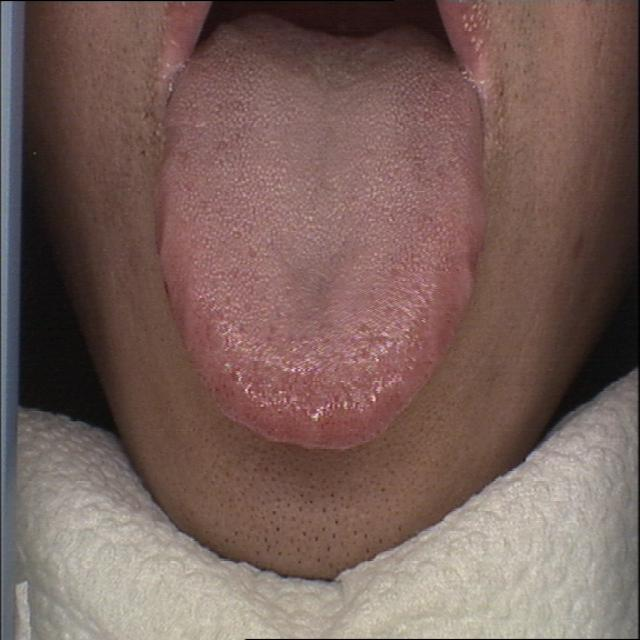tongue: (156, 12, 492, 460)
